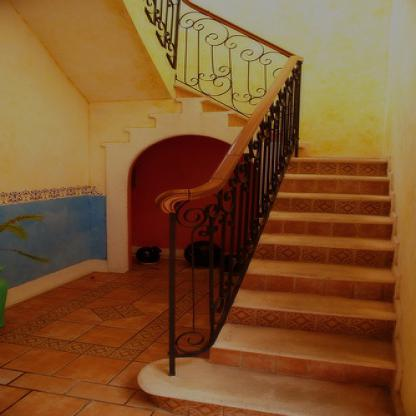stairs: (259, 217, 396, 403)
